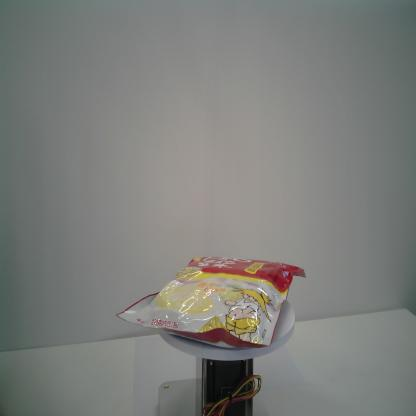Instant Drink: (114, 254, 308, 353)
